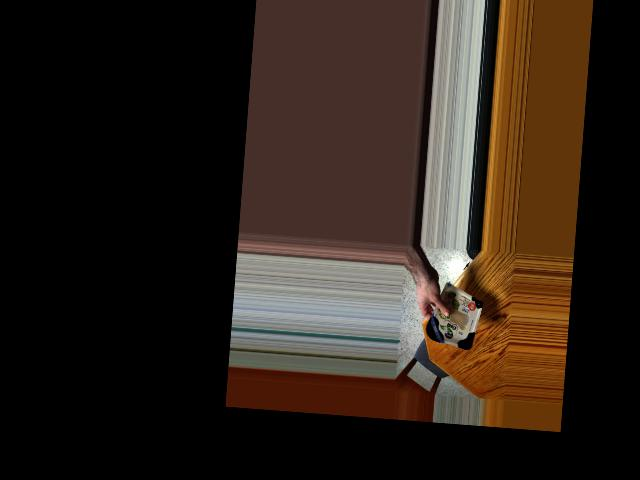cheese: (426, 291, 482, 349)
